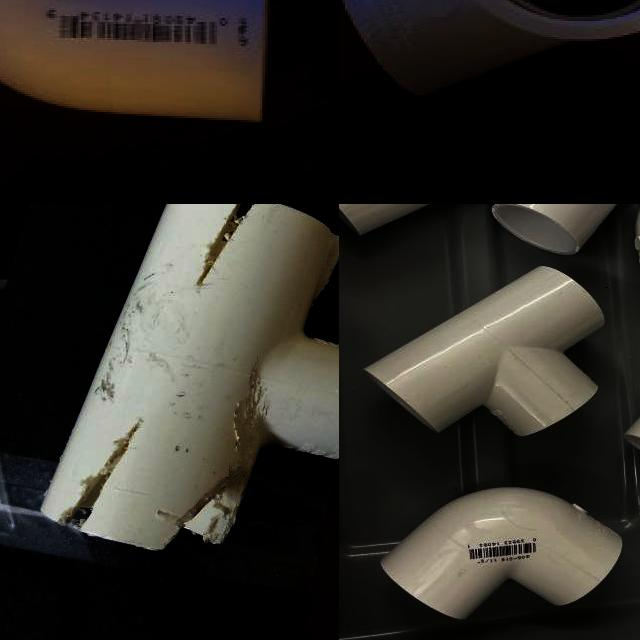Defective: (184, 371, 269, 548), (63, 420, 143, 530), (200, 204, 266, 286)
L Joint: (380, 487, 623, 621)
T Joint: (39, 204, 339, 555), (366, 266, 607, 441)
